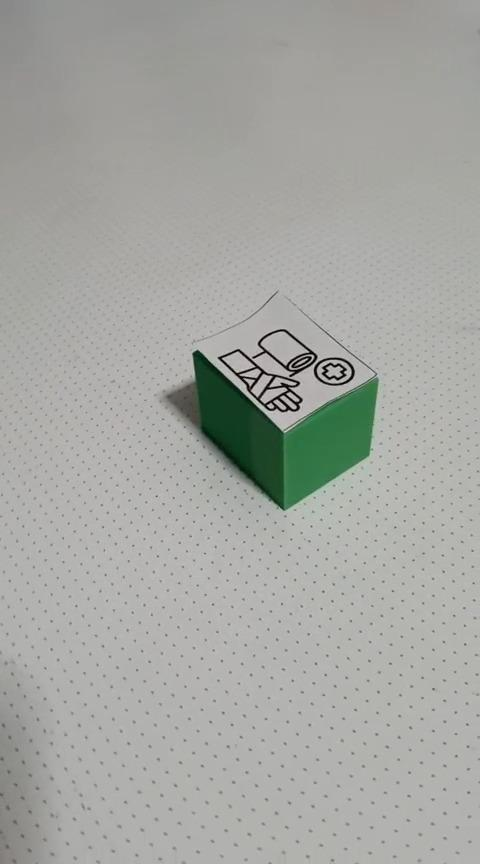Bandages: (190, 289, 378, 510)
